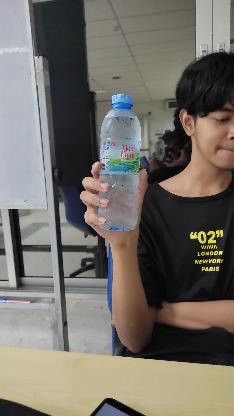Plastic Bottle: (95, 90, 141, 238)
